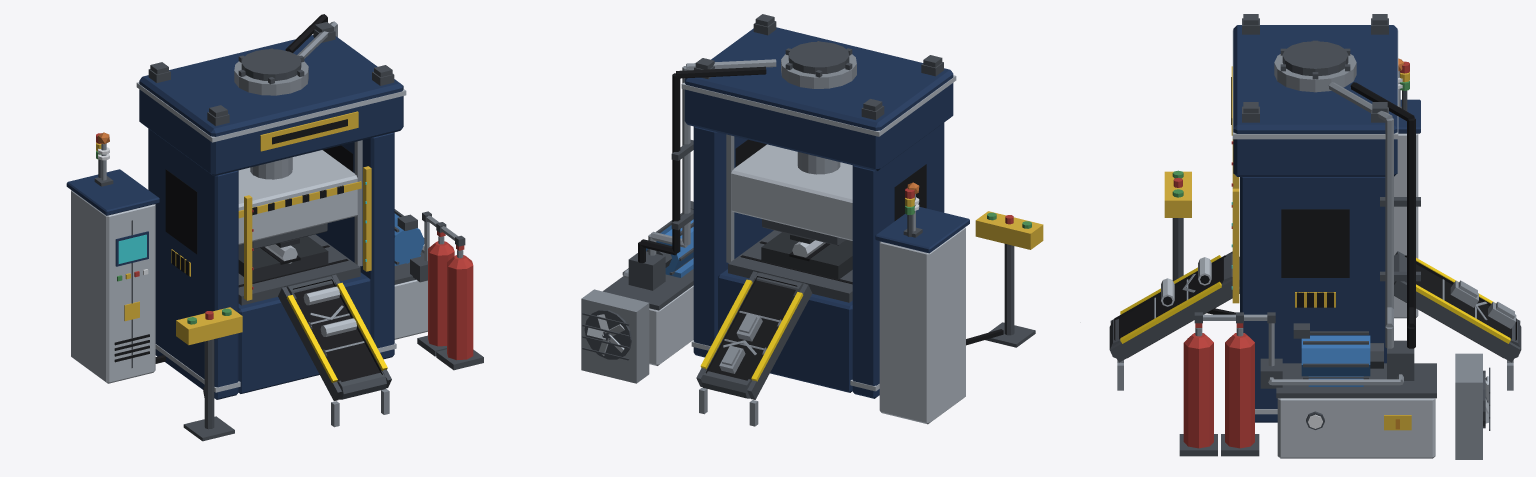
Rendered from presse_lourde_t3.glb.
3 views of the same model, side by side, from view 1: azimuth 30°, elevation 25°; view 2: azimuth 150°, elevation 25°; view 3: azimuth 270°, elevation 25° (orthographic). The views are drawn at different scales.
Parts seen in each view (by area): view 1: couronne.002, flasque_-1.002, armoire.008, pieces_acier_sombre.015, pieces_noir.015, flasque_1.002, coulisseau_gris_clair.002, sommier.002, pieces_jaune.012, pieces_acier.015, accumulateur_1.002, pieces_gris_clair.002 (+13 smaller); view 2: couronne.002, armoire.008, pieces_acier_sombre.015, flasque_-1.002, pieces_noir.015, coulisseau_gris_clair.002, flasque_1.002, pieces_acier.015, sommier.002, bache.002, pieces_fonte.015, armoire_toit.008 (+11 smaller); view 3: flasque_1.002, couronne.002, pieces_acier_sombre.015, pieces_noir.015, bache.002, pieces_acier.015, accumulateur_1.002, pieces_jaune.012, accumulateur_0.002, pieces_bleu.010, pieces_rive_t1.010, armoire.008 (+6 smaller).
Boxes of the visible parts, x1,y1,x2,y2 form: couronne.002: [139, 35, 403, 176]; flasque_-1.002: [148, 128, 238, 399]; armoire.008: [71, 190, 155, 383]; pieces_acier_sombre.015: [94, 22, 483, 441]; pieces_noir.015: [114, 14, 382, 397]; flasque_1.002: [316, 132, 394, 359]; coulisseau_gris_clair.002: [238, 150, 357, 244]; sommier.002: [238, 272, 370, 393]; pieces_jaune.012: [96, 111, 371, 345]; pieces_acier.015: [101, 21, 463, 427]; accumulateur_1.002: [447, 263, 473, 360]; pieces_gris_clair.002: [136, 82, 406, 392]; couronne.002: [684, 27, 953, 171]; armoire.008: [879, 227, 965, 424]; pieces_acier_sombre.015: [582, 14, 1035, 399]; flasque_-1.002: [852, 123, 944, 398]; pieces_noir.015: [638, 66, 1003, 380]; coulisseau_gris_clair.002: [731, 144, 852, 240]; flasque_1.002: [693, 126, 773, 357]; pieces_acier.015: [581, 59, 915, 426]; sommier.002: [718, 269, 852, 392]; bache.002: [649, 285, 693, 365]; pieces_fonte.015: [761, 232, 852, 279]; armoire_toit.008: [875, 206, 969, 253]; flasque_1.002: [1240, 177, 1386, 422]; couronne.002: [1233, 25, 1397, 176]; pieces_acier_sombre.015: [1109, 14, 1521, 456]; pieces_noir.015: [1114, 77, 1516, 358]; bache.002: [1277, 398, 1435, 458]; pieces_acier.015: [1117, 71, 1513, 459]; accumulateur_1.002: [1183, 343, 1213, 448]; pieces_jaune.012: [1164, 66, 1411, 430]; accumulateur_0.002: [1225, 343, 1254, 448]; pieces_bleu.010: [1301, 335, 1370, 386]; pieces_rive_t1.010: [1120, 255, 1510, 343]; armoire.008: [1394, 133, 1418, 318].
Size of the model in its own units: 2 by 1.72 by 2.
